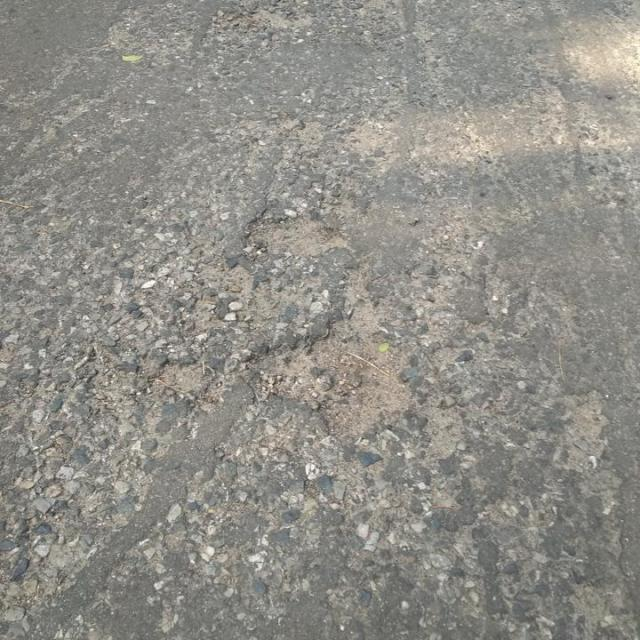Pothole: (240, 296, 414, 438), (240, 210, 348, 264), (144, 356, 208, 396)
